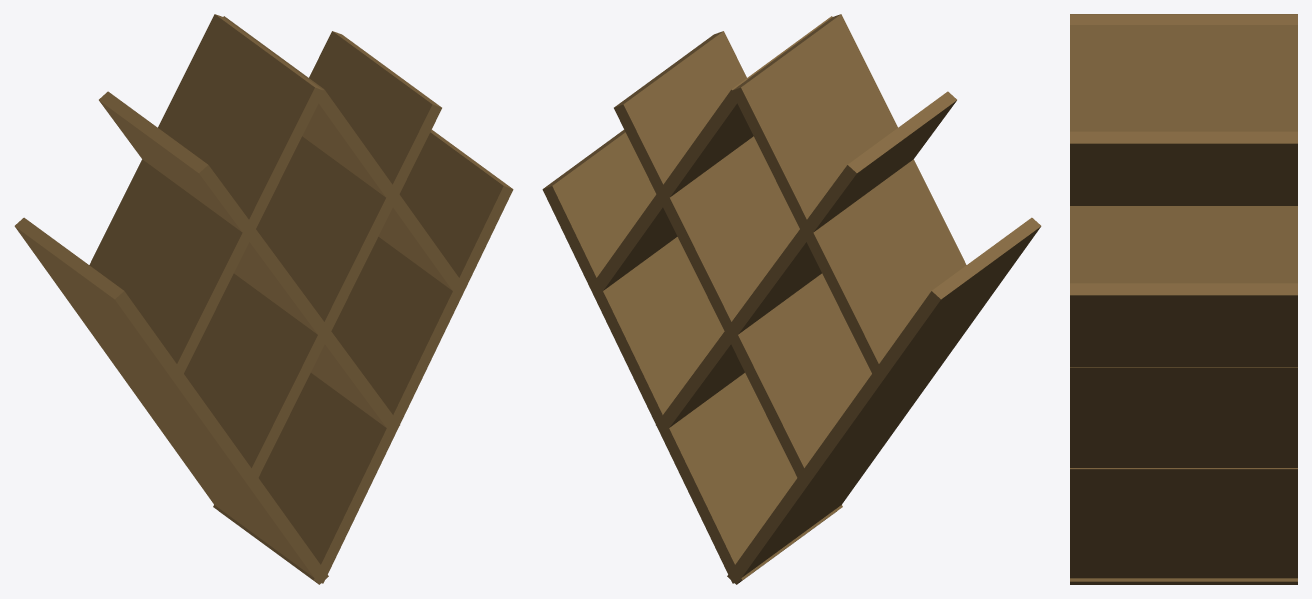
File: BookCase2.fbx
The picture shows the model from 3 angles, left to right: view 1: azimuth 30°, elevation 25°; view 2: azimuth 150°, elevation 25°; view 3: azimuth 270°, elevation 25°; orthographic projection. The views are drawn at different scales.
Parts seen in each view (by area): view 1: BookCase2.001; view 2: BookCase2.001; view 3: BookCase2.001.
Part boxes in pixels (<box>): BookCase2.001: <box>14,14,513,584</box>; BookCase2.001: <box>542,14,1041,584</box>; BookCase2.001: <box>1070,14,1297,584</box>.
Size of the model in its own units: 229 by 274 by 100.
